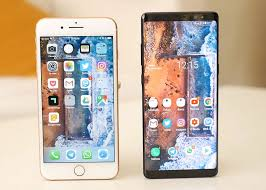iphone: (33, 14, 120, 181)
iphone7: (32, 15, 119, 182)
